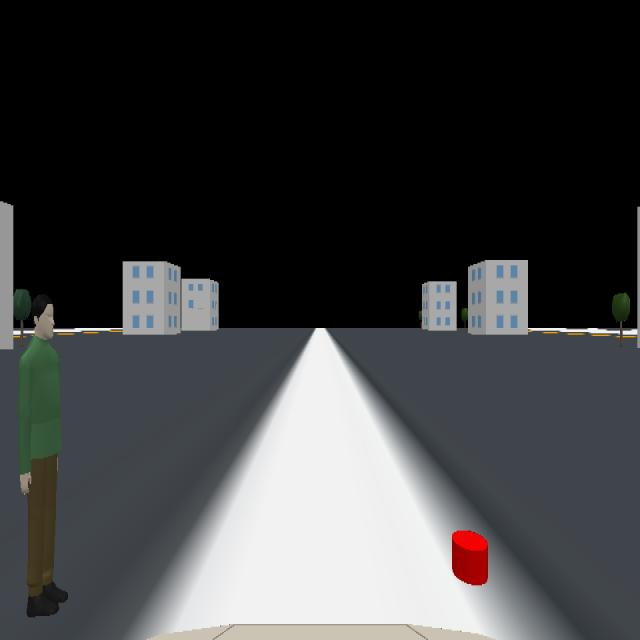human: (17, 294, 68, 618)
